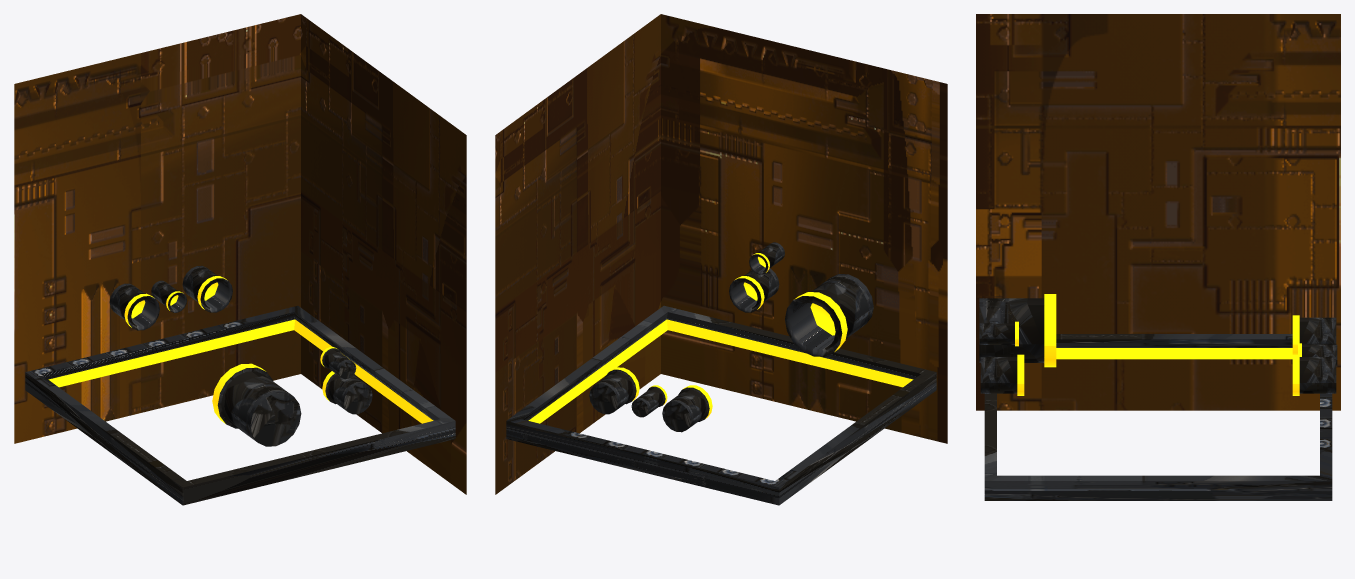
File: outerWalls.gltf
3 views of the same model, side by side, from view 1: azimuth 30°, elevation 25°; view 2: azimuth 150°, elevation 25°; view 3: azimuth 270°, elevation 25° (orthographic). The views are drawn at different scales.
Visible parts, largest first — view 1: Outer Walls; view 2: Outer Walls; view 3: Outer Walls.
Part boxes in pixels (x1,y1,x2,y2): Outer Walls: [14, 14, 466, 505]; Outer Walls: [495, 14, 947, 505]; Outer Walls: [976, 14, 1340, 500].
Size of what is drawn, in the model's own units: 64 by 76.82 by 64.
3 materials, 2 textured.
